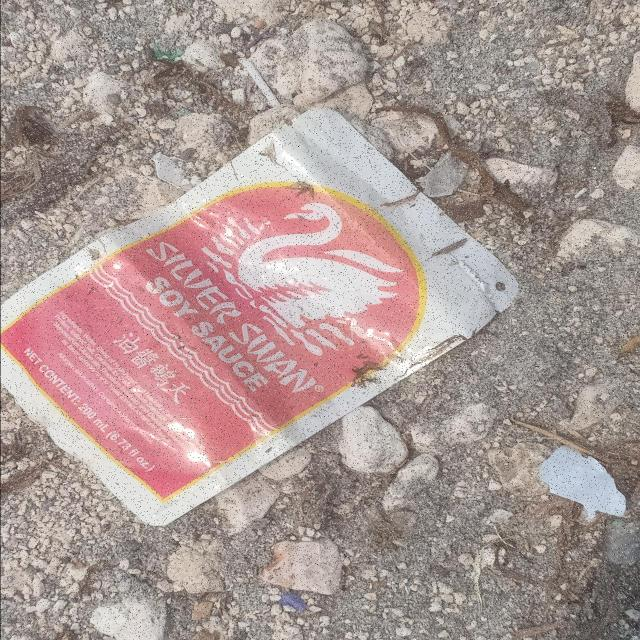plastic_waste: (2, 107, 519, 526)
